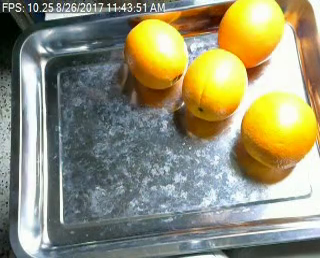Orange: (240, 92, 317, 169), (182, 47, 249, 120), (123, 18, 189, 89), (217, 1, 284, 69)
